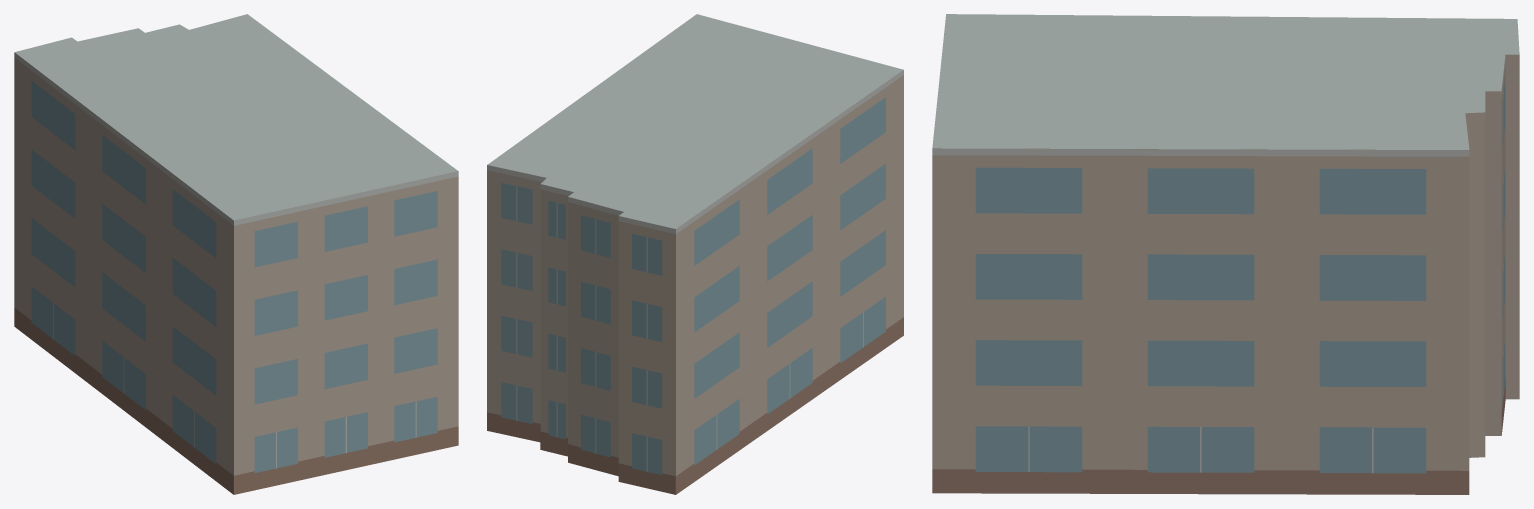
Rendered from survey-upis-32663500.glb.
3 renders of one model, left to right at view 1: azimuth 30°, elevation 25°; view 2: azimuth 150°, elevation 25°; view 3: azimuth 270°, elevation 25°, orthographic. The views are drawn at different scales.
Visible parts, largest first — view 1: survey-upis-32663500.tmp; view 2: survey-upis-32663500.tmp; view 3: survey-upis-32663500.tmp.
Boxes of the visible parts, x1,y1,x2,y2 form: survey-upis-32663500.tmp: [14, 14, 458, 494]; survey-upis-32663500.tmp: [487, 14, 903, 494]; survey-upis-32663500.tmp: [932, 14, 1519, 494].
Bounding box in the file's own units: 10.59 × 12.5 × 19.31.
